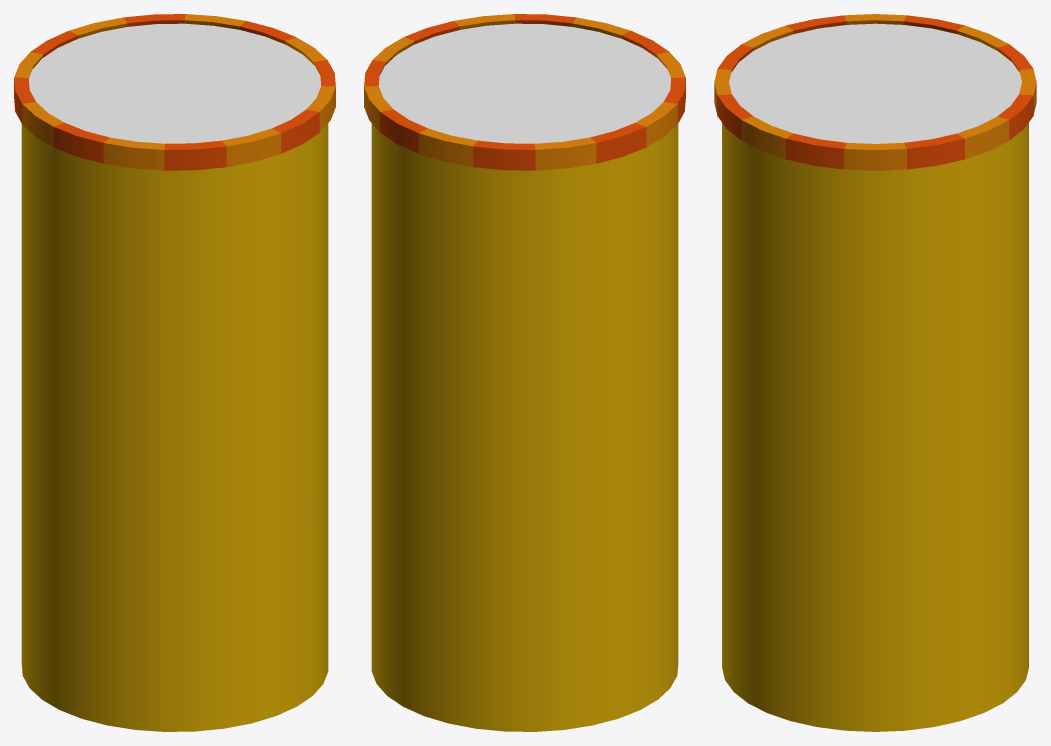
File: playground1.fbx
The picture shows the model from 3 angles, left to right: view 1: azimuth 30°, elevation 25°; view 2: azimuth 150°, elevation 25°; view 3: azimuth 270°, elevation 25°; orthographic projection.
Visible parts, largest first — view 1: Circle; view 2: Circle; view 3: Circle.
Part boxes in pixels (x1,y1,x2,y2): Circle: [14, 14, 335, 731]; Circle: [364, 14, 685, 731]; Circle: [714, 14, 1036, 731].
Size of the model in its own units: 3520 by 7050 by 3520.
